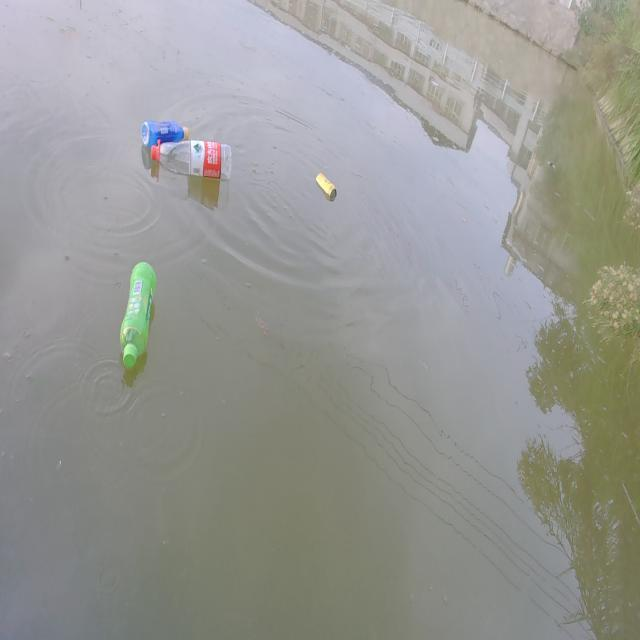bottle: (108, 247, 164, 373), (146, 139, 239, 182), (136, 118, 203, 148)
